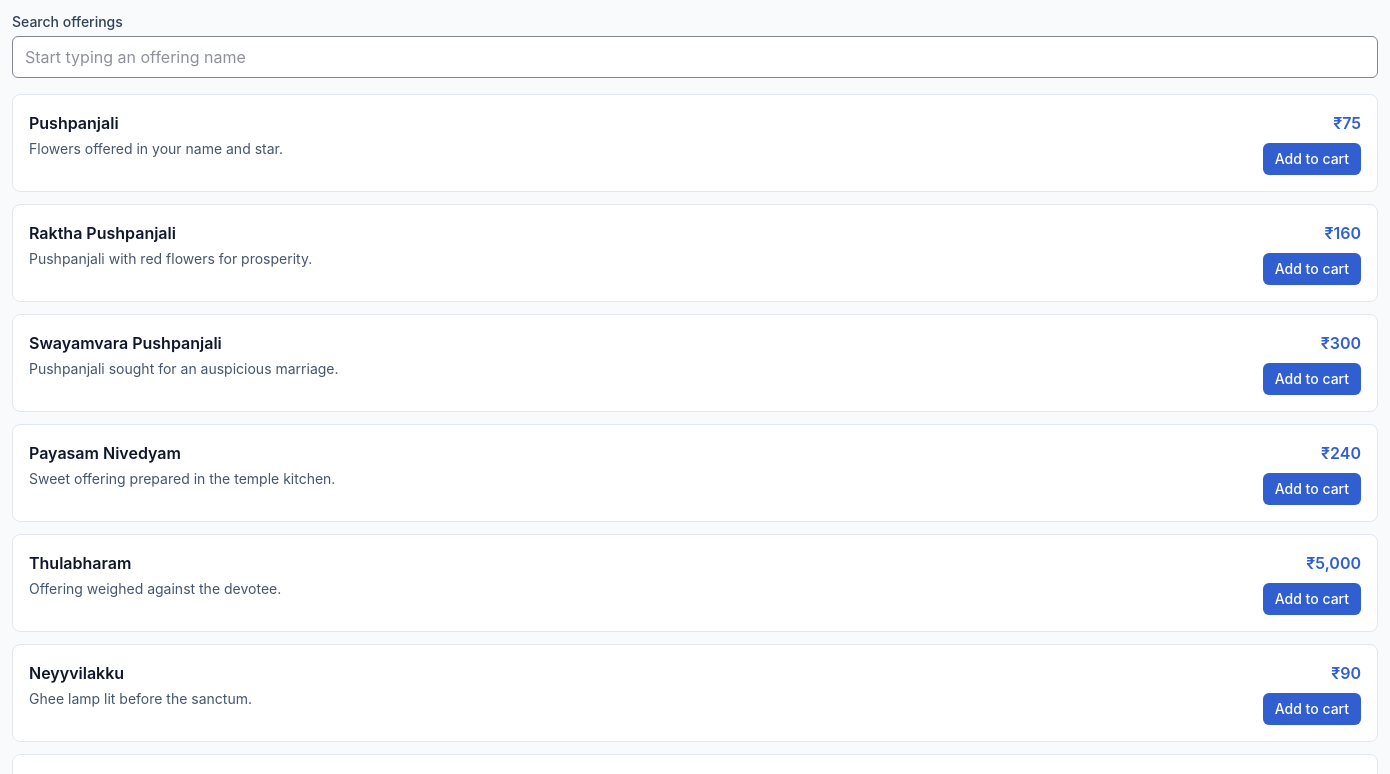
Scenario: TempleOfferings › matches any part of a name regardless of capitalisation
Expected: the heading "Pushpanjali" is shown, [29,113,119,133]
Type "ANJALI" into the search field labelled "Search offerings" at (695, 57), box [12,36,1378,78]
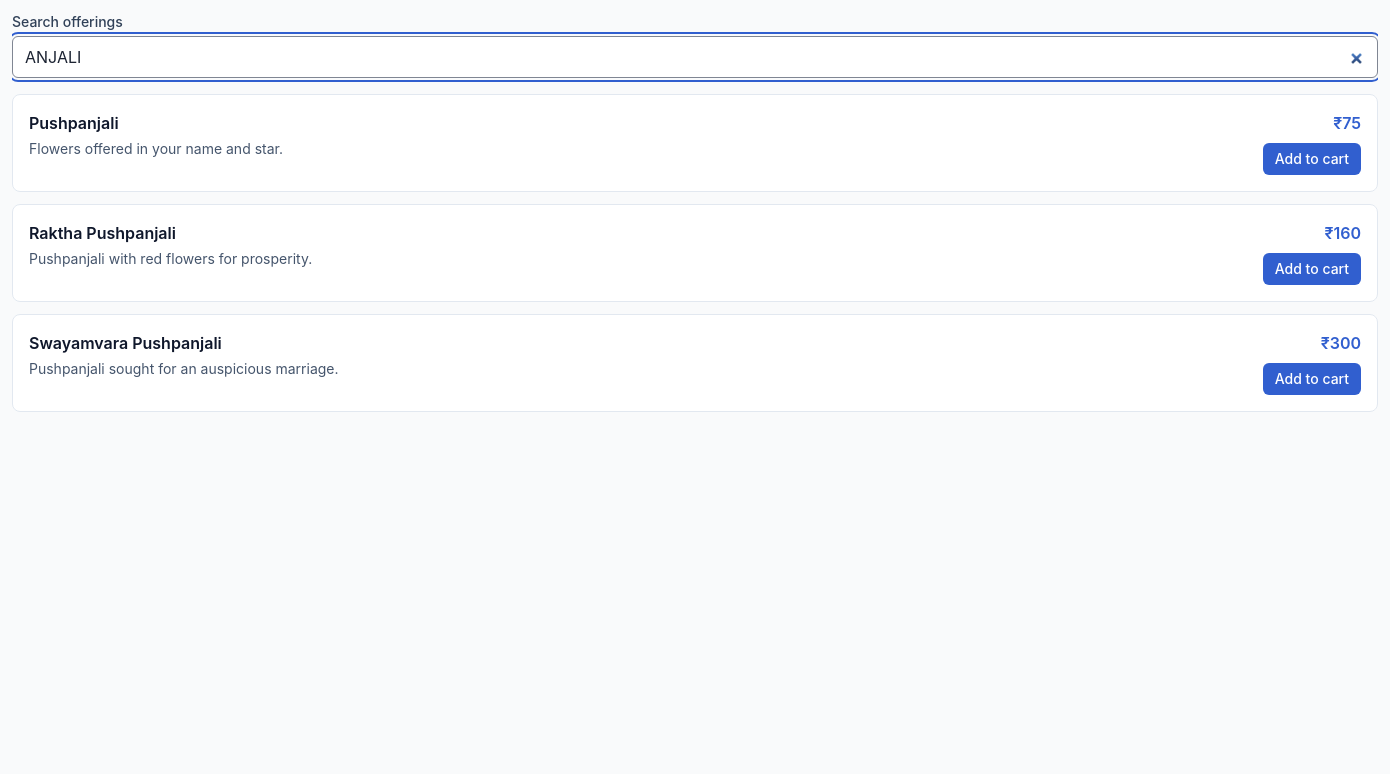
Expected: the heading "Swayamvara Pushpanjali" is shown, [29,333,222,353]
Now the heading "Payasam Nivedyam" is gone
